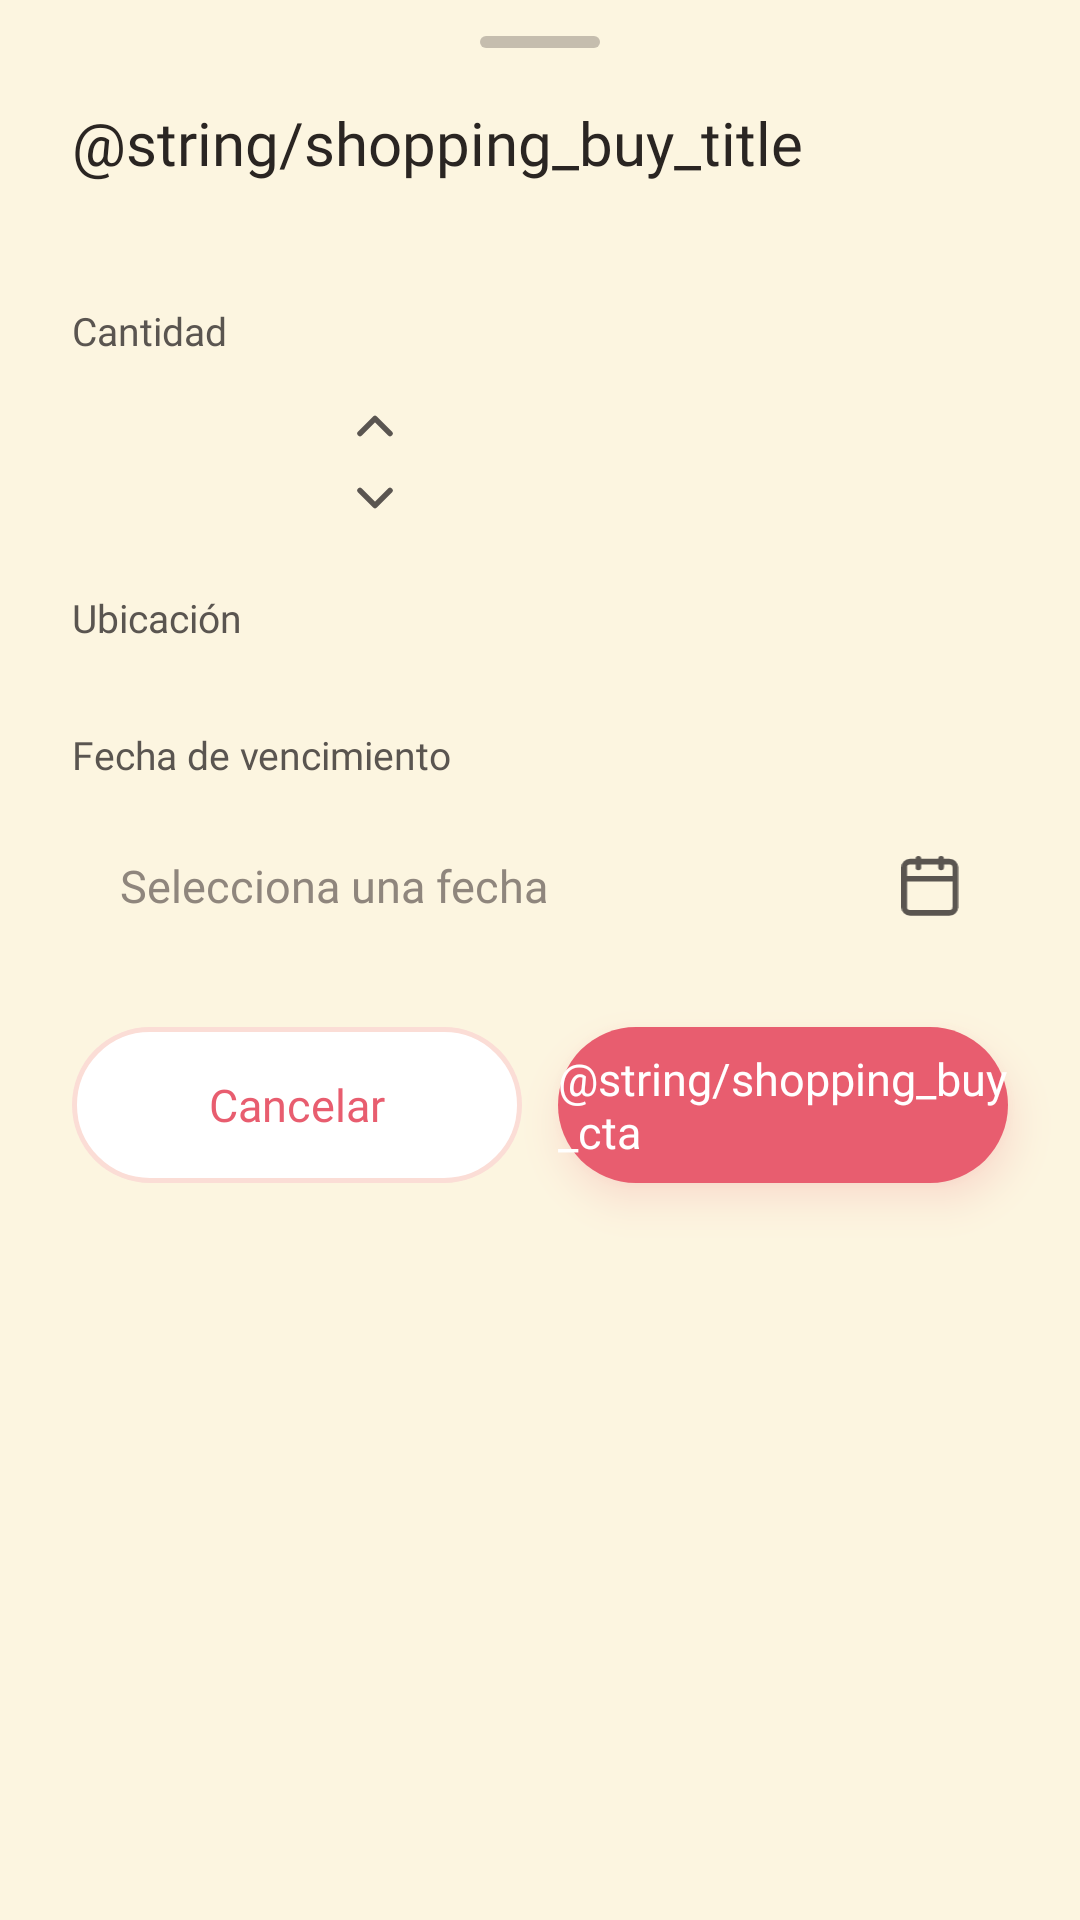

Icon click points for this 1080px×1920px phone screenshot, format (x,y):
Aumentar: (375,426)
calendar: (930,886)
Disminuir: (375,498)
